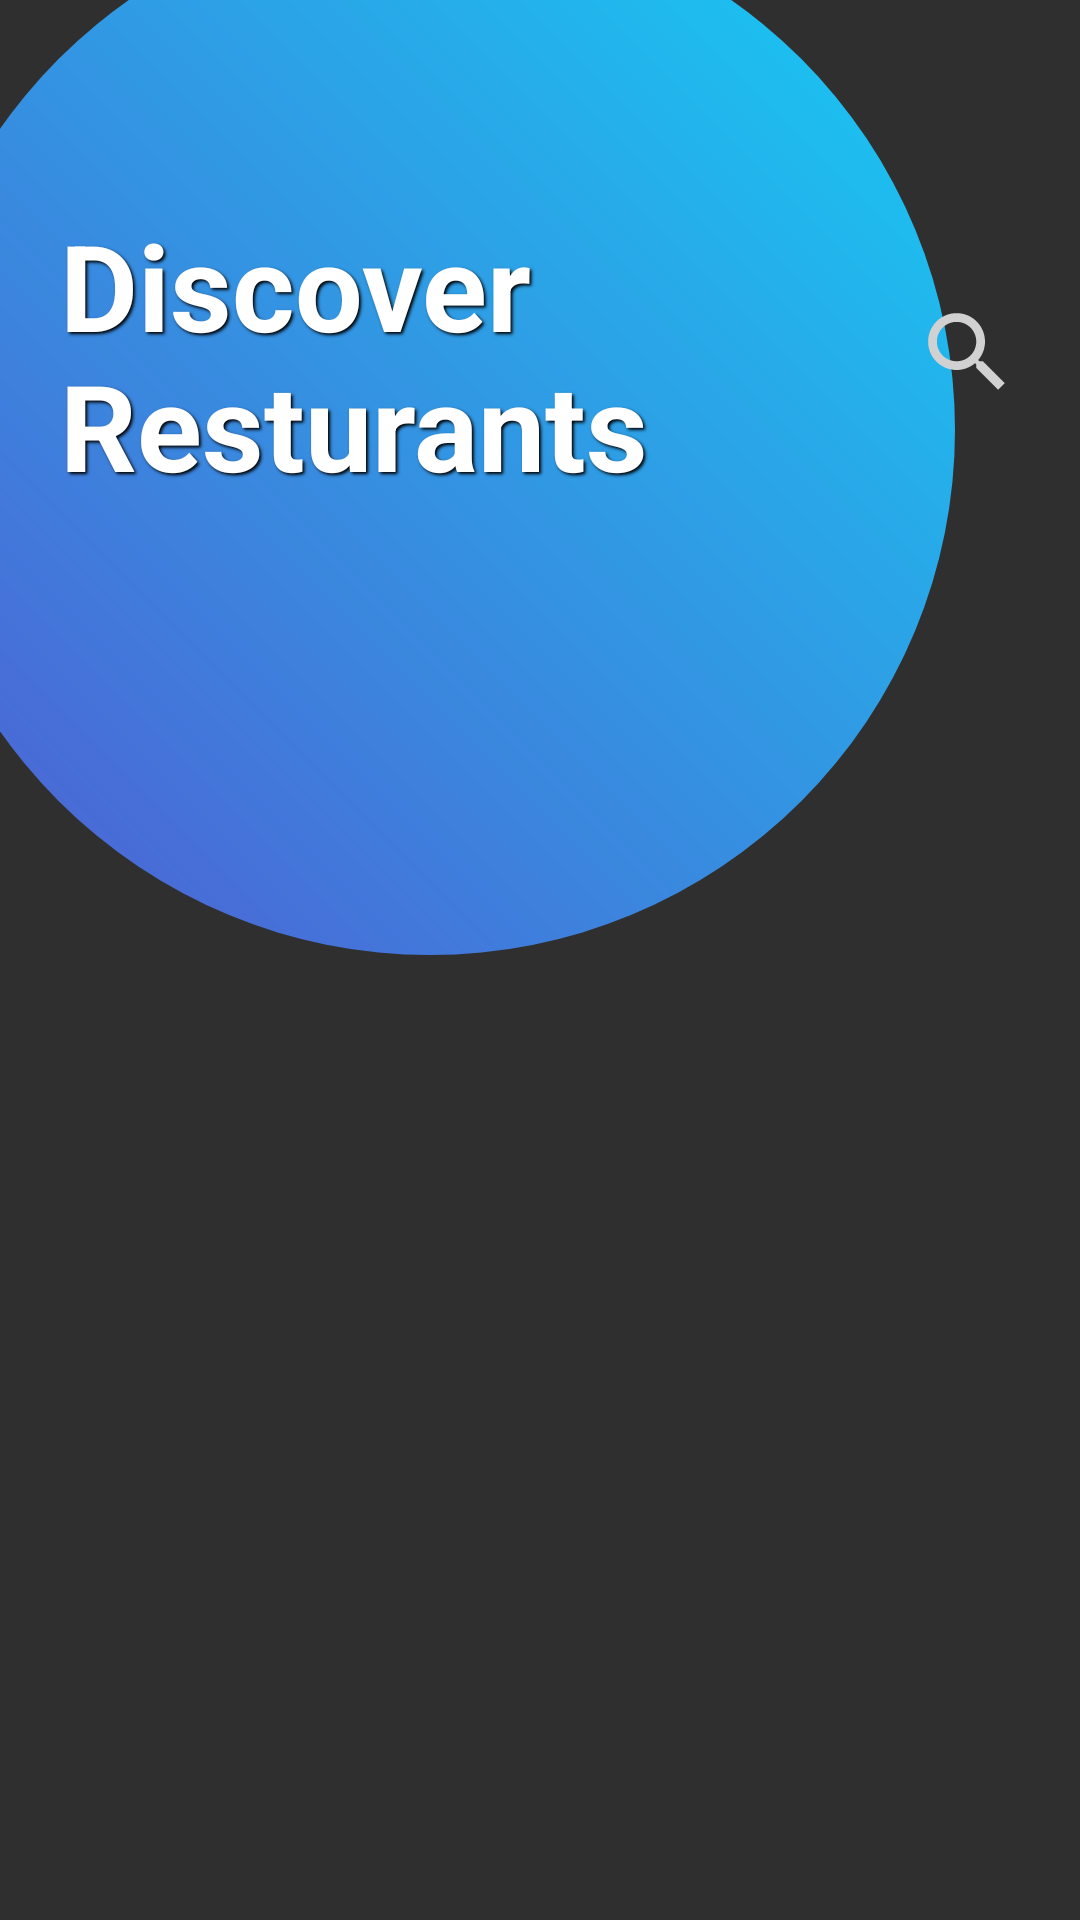

Icons on this 1080px x 1920px Android screen, each with the point to tap as (x=x, y=y):
search gery: (x=967, y=352)
